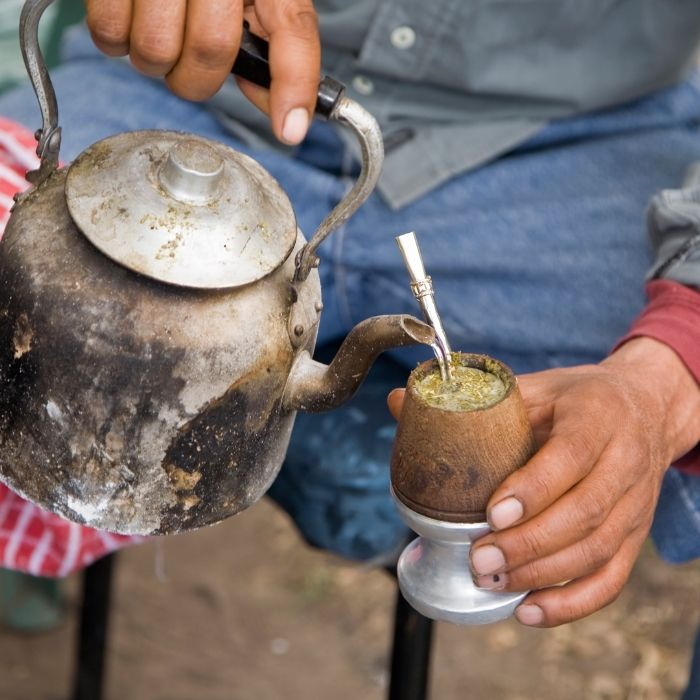madera: (387, 307, 560, 636)
mate: (389, 309, 562, 638)
